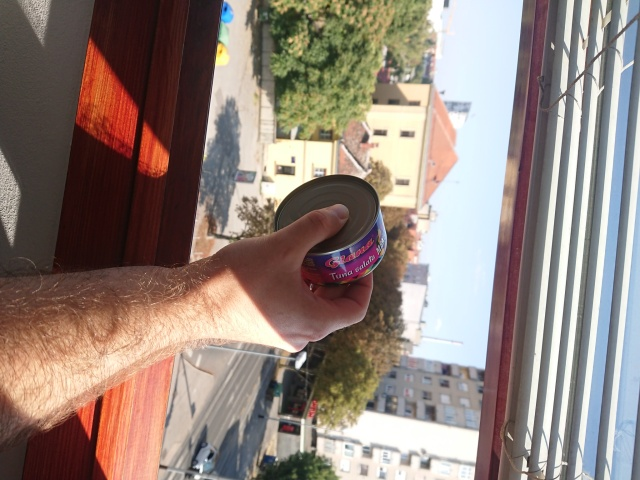Giana Tuna Salad Mexico 185g: (272, 172, 390, 291)
